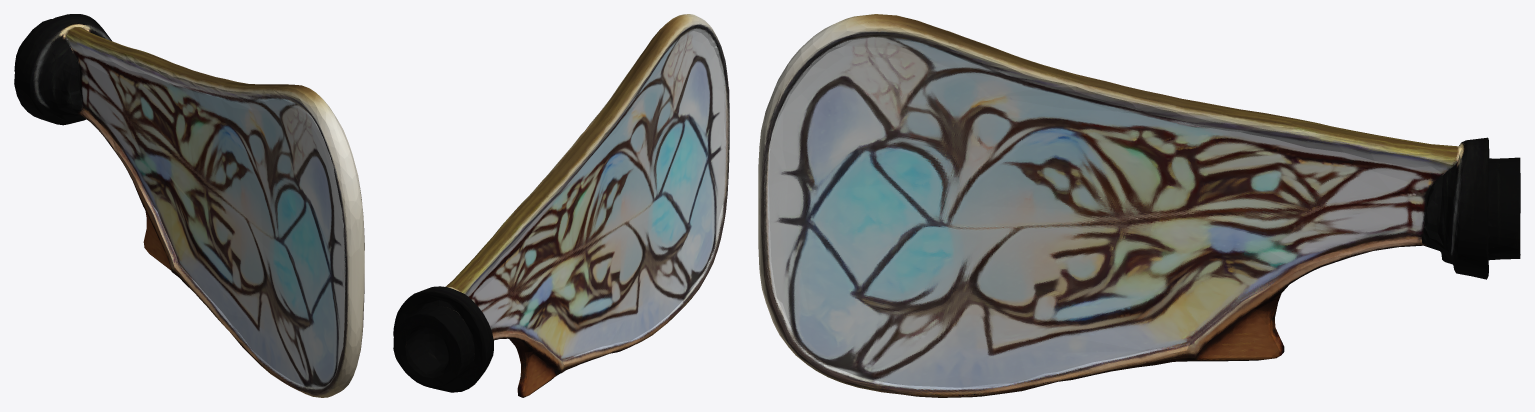
File: shell-inlaid-violin-bow-art-deco.jpeg.glb
The picture shows the model from 3 angles, left to right: view 1: azimuth 30°, elevation 25°; view 2: azimuth 150°, elevation 25°; view 3: azimuth 270°, elevation 25°; orthographic projection. The views are drawn at different scales.
Visible parts, largest first — view 1: world; view 2: world; view 3: world.
Part boxes in pixels (box(x1,y1,x2,y2)): world: box(14, 14, 364, 397); world: box(393, 14, 729, 397); world: box(758, 14, 1520, 397).
Bounding box in the file's own units: 0.1833 × 0.5537 × 1.
1 material, 1 textured.
